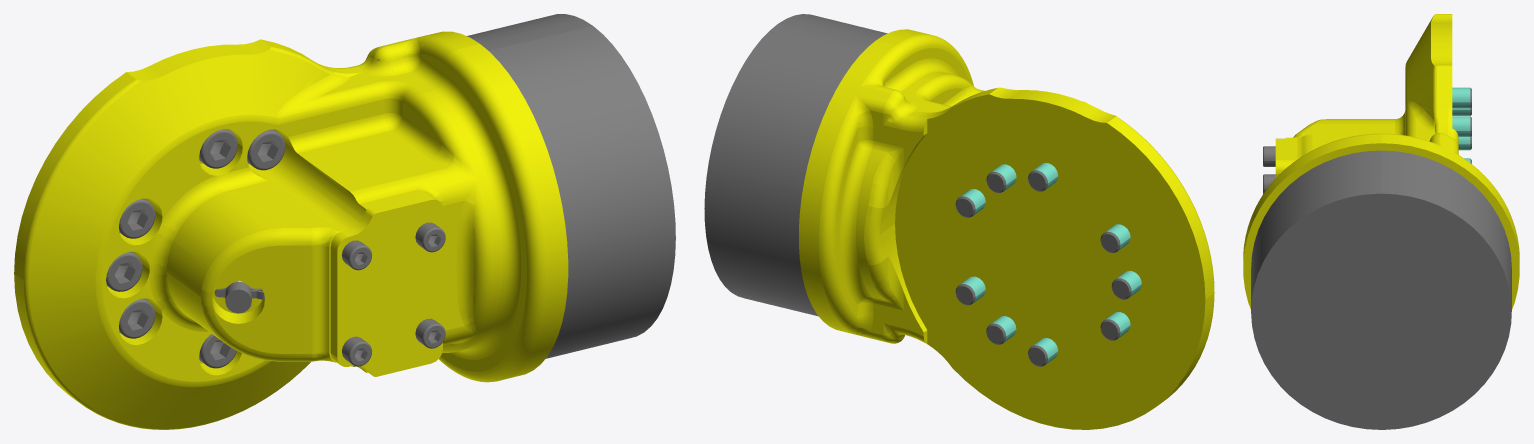
3 renders of one model, left to right at view 1: azimuth 30°, elevation 25°; view 2: azimuth 150°, elevation 25°; view 3: azimuth 270°, elevation 25°, orthographic. The views are drawn at different scales.
Parts seen in each view (by area): view 1: Mesh_0; view 2: Mesh_0; view 3: Mesh_0.
Part boxes in pixels (<box>): Mesh_0: <box>14,14,675,429</box>; Mesh_0: <box>704,14,1214,429</box>; Mesh_0: <box>1243,14,1519,429</box>.
Size of the model in its own units: 0.232 by 0.153 by 0.1329.
